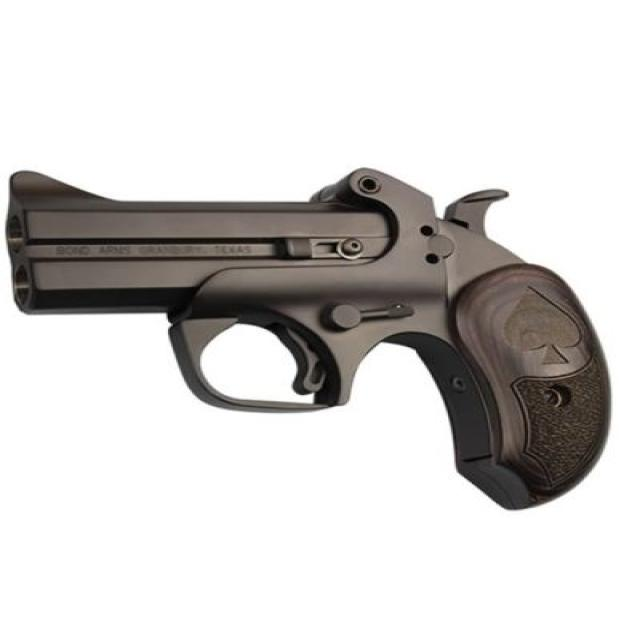HandGun: (5, 168, 613, 513)
